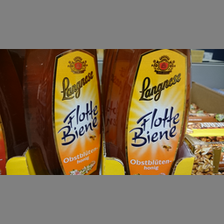honey: (106, 49, 193, 174), (22, 48, 102, 175)
